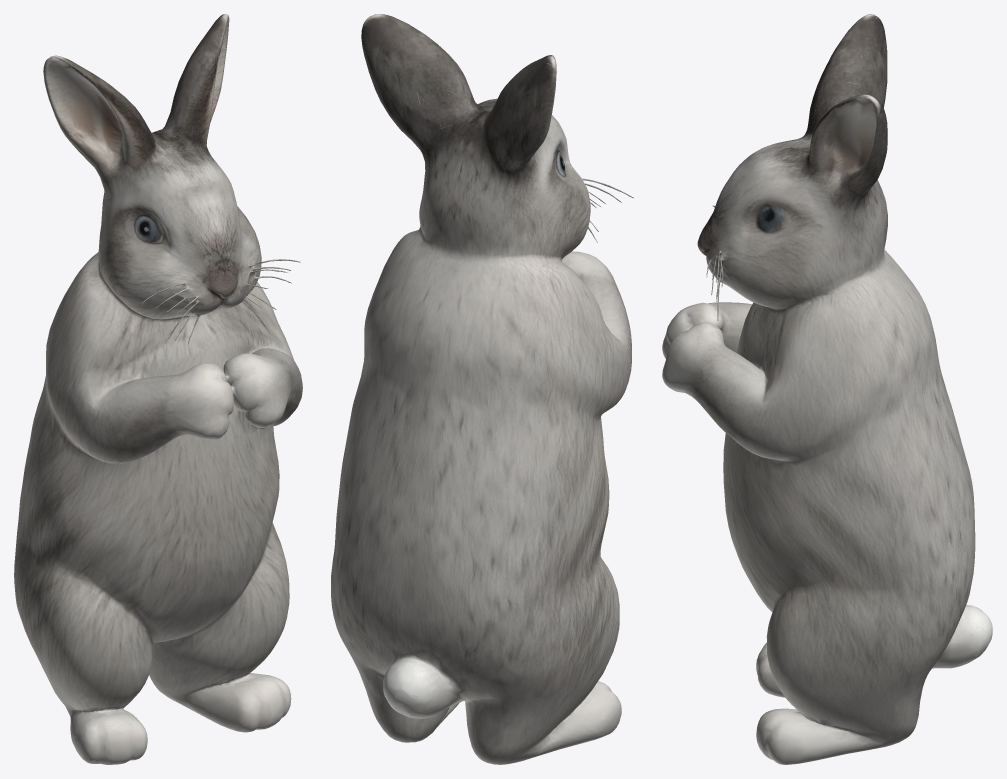
The model's file is rabbit-white.glb.
The picture shows the model from 3 angles, left to right: view 1: azimuth 30°, elevation 25°; view 2: azimuth 150°, elevation 25°; view 3: azimuth 270°, elevation 25°; orthographic projection. The views are drawn at different scales.
Parts seen in each view (by area): view 1: Mesh_0; view 2: Mesh_0; view 3: Mesh_0.
Part boxes in pixels (x1,y1,x2,y2): Mesh_0: (14,14,302,764); Mesh_0: (331,14,633,764); Mesh_0: (662,14,992,764).
Size of the model in its own units: 0.6915 by 1.9 by 0.8546.
1 material, 1 textured.
